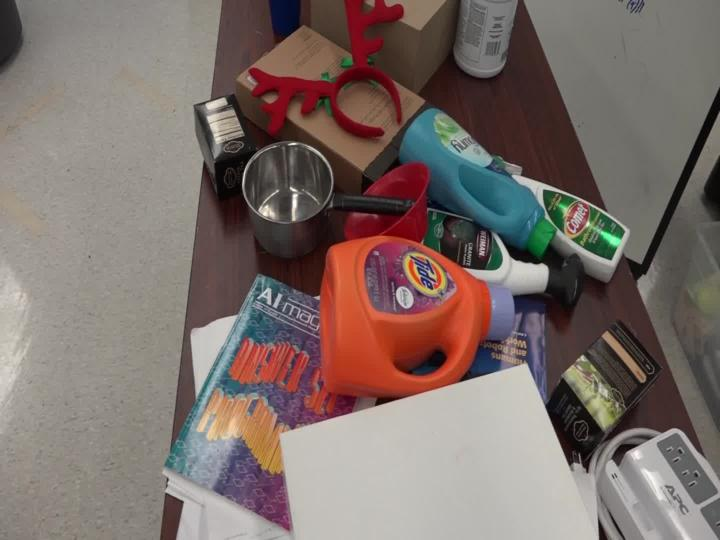downy: (379, 89, 567, 274)
